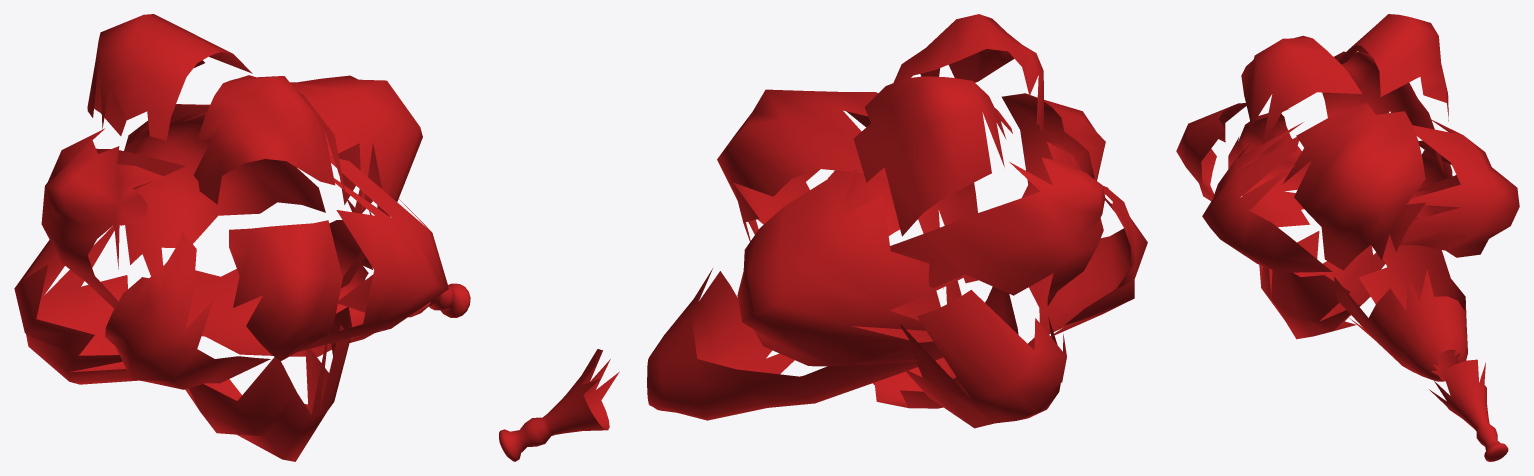
Rendered from balloon_shreds.glb.
3 renders of one model, left to right at view 1: azimuth 30°, elevation 25°; view 2: azimuth 150°, elevation 25°; view 3: azimuth 270°, elevation 25°, orthographic. The views are drawn at different scales.
Visible parts, largest first — view 1: shard_04, shard_11, shard_02, shard_01, shard_10, shard_06, shard_03, shard_07, shard_05, shard_08, shard_09, shard_00; view 2: shard_04, shard_09, shard_06, shard_03, shard_07, shard_08, shard_01, shard_02, shard_11, shard_05, shard_00, shard_10; view 3: shard_08, shard_09, shard_04, shard_10, shard_02, shard_05, shard_03, shard_01, shard_06, shard_00, shard_11, shard_07.
Part boxes in pixels (<box>): shard_04: <box>114,104,325,276</box>; shard_11: <box>229,220,342,361</box>; shard_02: <box>193,75,345,204</box>; shard_01: <box>105,231,270,389</box>; shard_10: <box>298,157,448,351</box>; shard_06: <box>41,128,185,308</box>; shard_03: <box>87,14,252,140</box>; shard_07: <box>14,225,137,384</box>; shard_05: <box>185,307,352,461</box>; shard_08: <box>180,75,422,288</box>; shard_09: <box>154,200,376,356</box>; shard_00: <box>408,283,470,317</box>; shard_04: <box>737,168,966,366</box>; shard_09: <box>647,268,943,420</box>; shard_06: <box>890,142,1105,305</box>; shard_03: <box>853,76,1012,236</box>; shard_07: <box>900,289,1066,428</box>; shard_08: <box>717,89,886,241</box>; shard_01: <box>1028,186,1147,336</box>; shard_02: <box>893,14,1043,131</box>; shard_11: <box>1001,93,1105,197</box>; shard_05: <box>851,280,1018,408</box>; shard_00: <box>499,349,619,461</box>; shard_10: <box>828,170,978,288</box>; shard_08: <box>1283,103,1425,270</box>; shard_09: <box>1334,217,1467,381</box>; shard_04: <box>1392,118,1519,257</box>; shard_10: <box>1202,122,1332,272</box>; shard_02: <box>1241,35,1362,144</box>; shard_05: <box>1259,231,1385,339</box>; shard_03: <box>1338,14,1448,121</box>; shard_01: <box>1228,109,1311,227</box>; shard_06: <box>1322,51,1444,174</box>; shard_00: <box>1429,359,1508,461</box>; shard_11: <box>1176,103,1246,200</box>; shard_07: <box>1406,150,1452,218</box>.
Bounding box in the file's own units: 0.2499 × 0.2024 × 0.1997.
